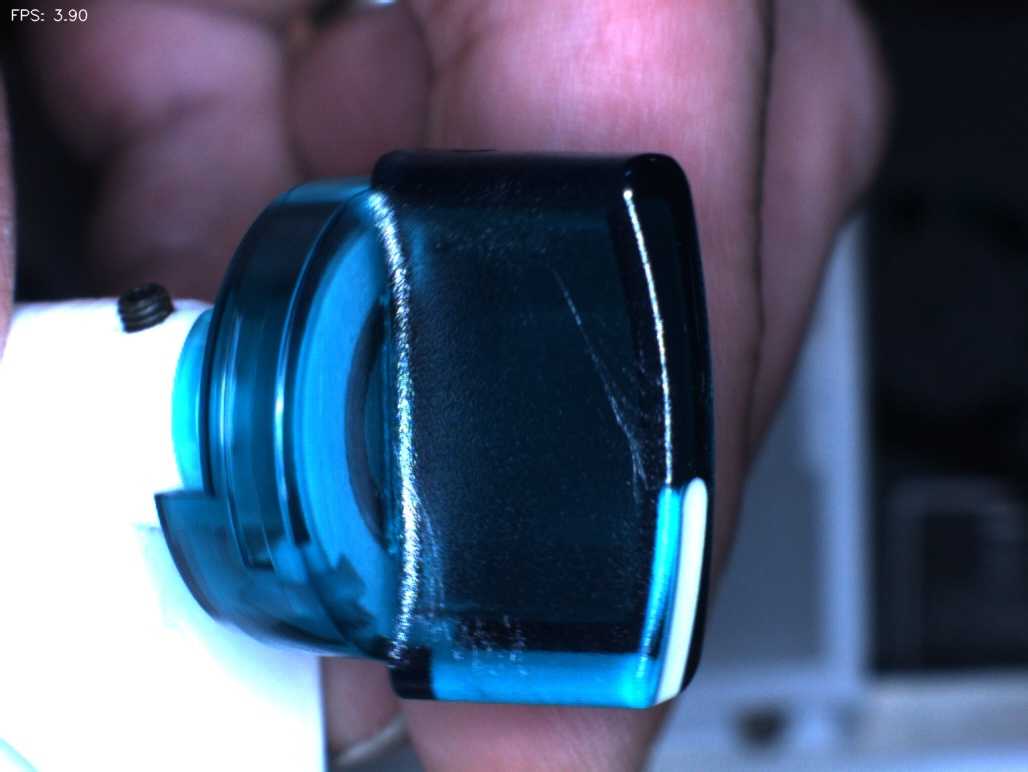Givrage: (546, 259, 666, 496)
